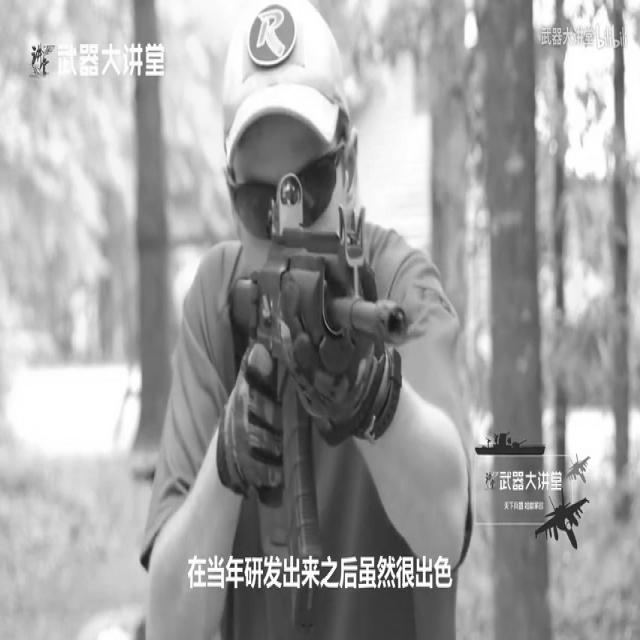Rifle: (198, 63, 430, 628)
